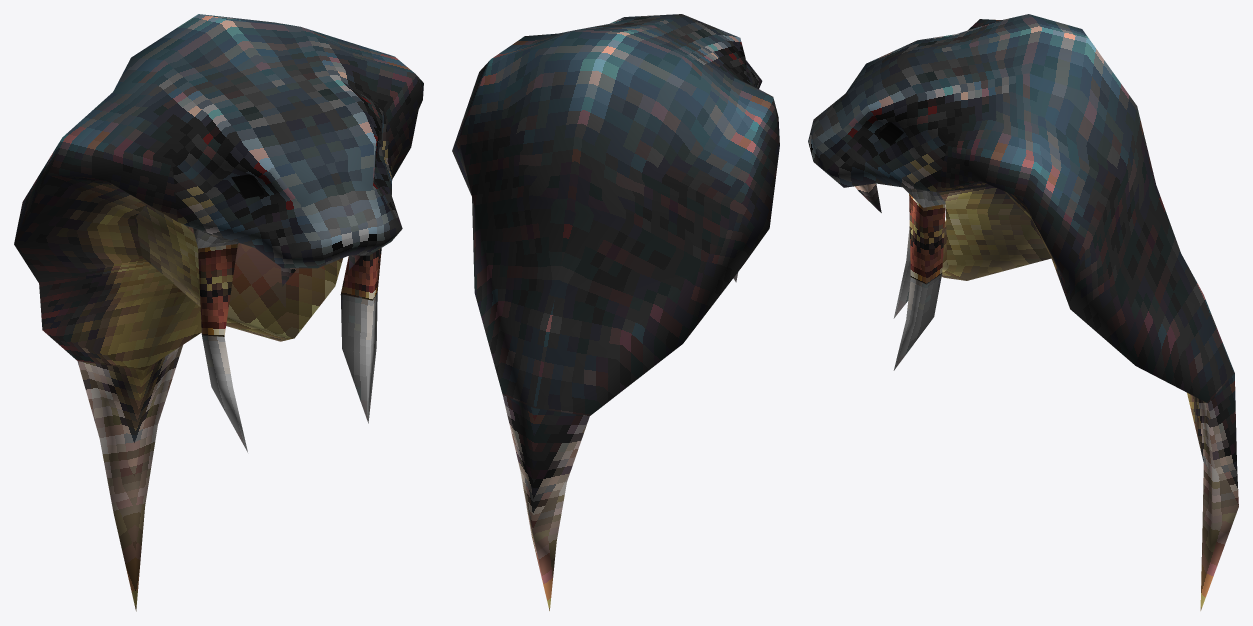
Rendered from f_helmet211.obj.
The picture shows the model from 3 angles, left to right: view 1: azimuth 30°, elevation 25°; view 2: azimuth 150°, elevation 25°; view 3: azimuth 270°, elevation 25°; orthographic projection. The views are drawn at different scales.
Parts seen in each view (by area): view 1: mesh01, mesh00; view 2: mesh01; view 3: mesh01, mesh00.
Part boxes in pixels (x1,y1,x2,y2): mesh01: (14, 14, 423, 611); mesh00: (193, 228, 377, 452); mesh01: (452, 14, 779, 610); mesh01: (808, 14, 1238, 610); mesh00: (893, 187, 945, 370).
Size of the model in its own units: 40.38 by 63.89 by 42.68.
Materials: 2 (2 with a texture image).
